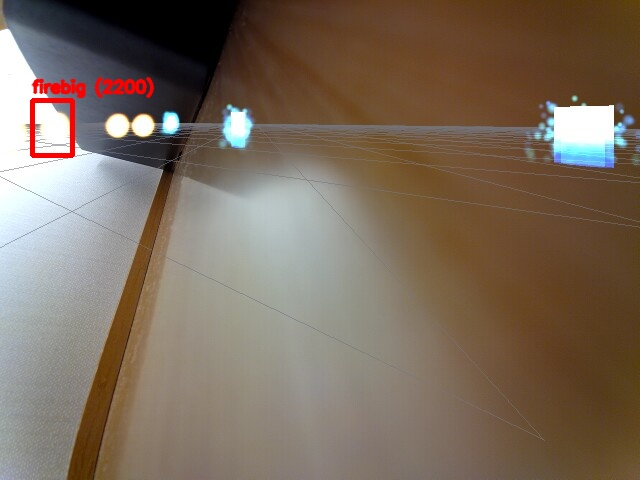firebig: (32, 100, 72, 155)
